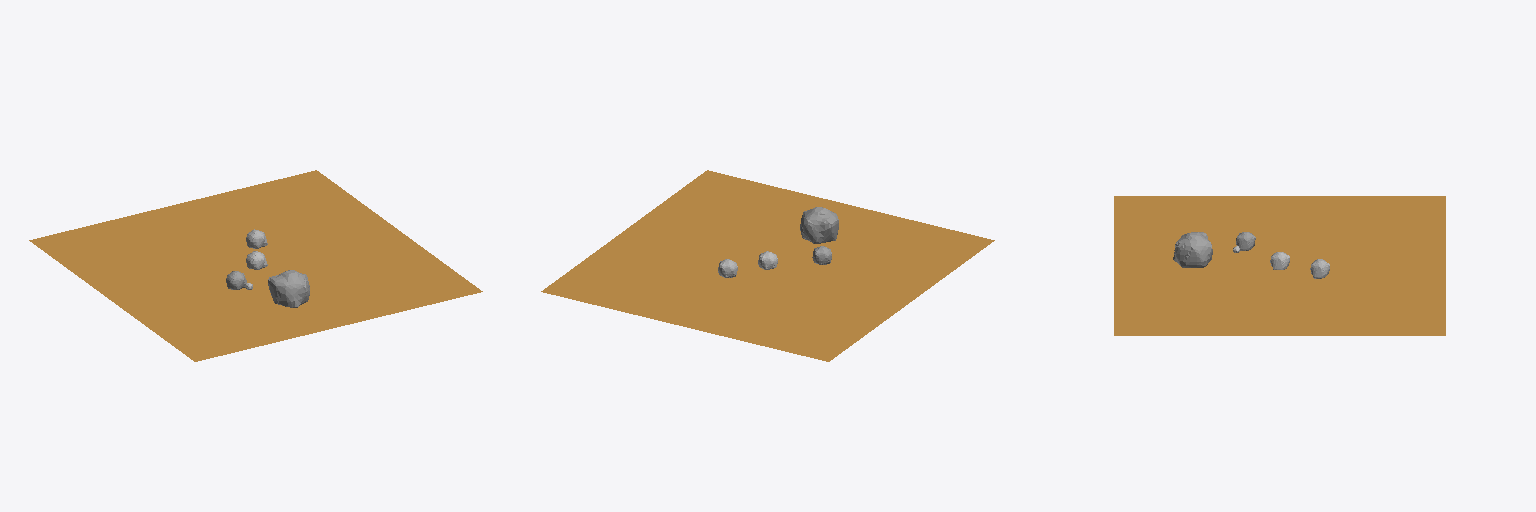
File: stones.obj
The picture shows the model from 3 angles: view 1: azimuth 30°, elevation 25°; view 2: azimuth 150°, elevation 25°; view 3: azimuth 270°, elevation 25°; orthographic projection.
Visible parts, largest first — view 1: Plane, Icosphere.003; view 2: Plane, Icosphere.003; view 3: Plane, Icosphere.003.
Boxes of the visible parts, x1=… form: Plane: x1=29, y1=170, x2=482, y2=361; Icosphere.003: x1=268, y1=270, x2=309, y2=307; Plane: x1=541, y1=170, x2=994, y2=361; Icosphere.003: x1=800, y1=207, x2=838, y2=243; Plane: x1=1114, y1=196, x2=1445, y2=335; Icosphere.003: x1=1173, y1=232, x2=1212, y2=267.
Size of the model in its own units: 28 by 3.32 by 28.